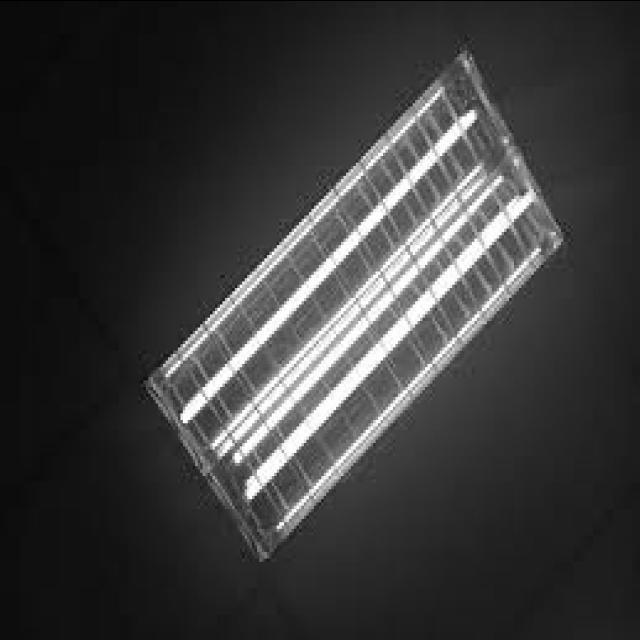light: (142, 35, 565, 563)
